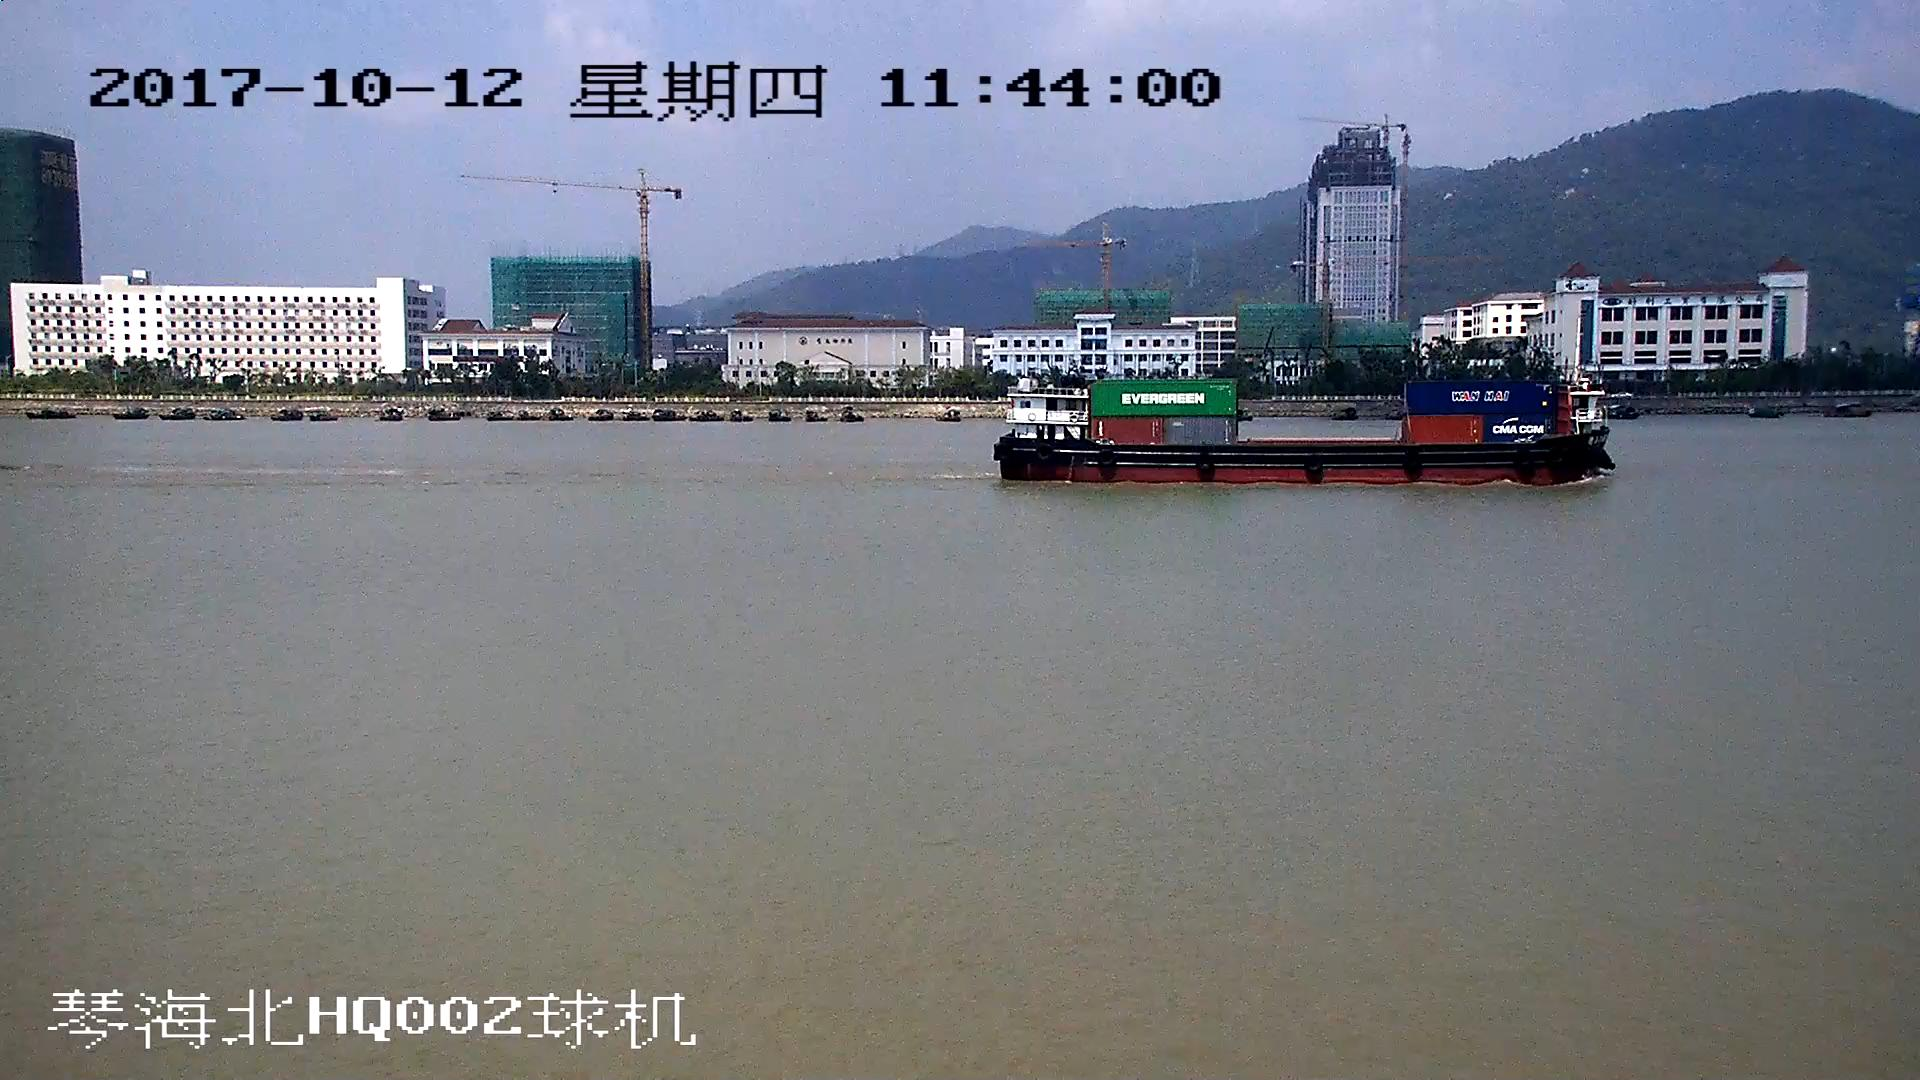container ship: (994, 376, 1610, 481)
